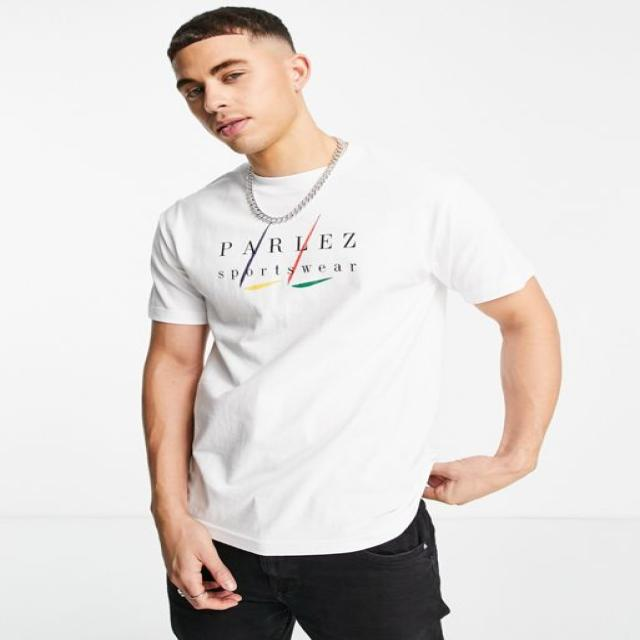tshirt: (142, 141, 533, 555)
